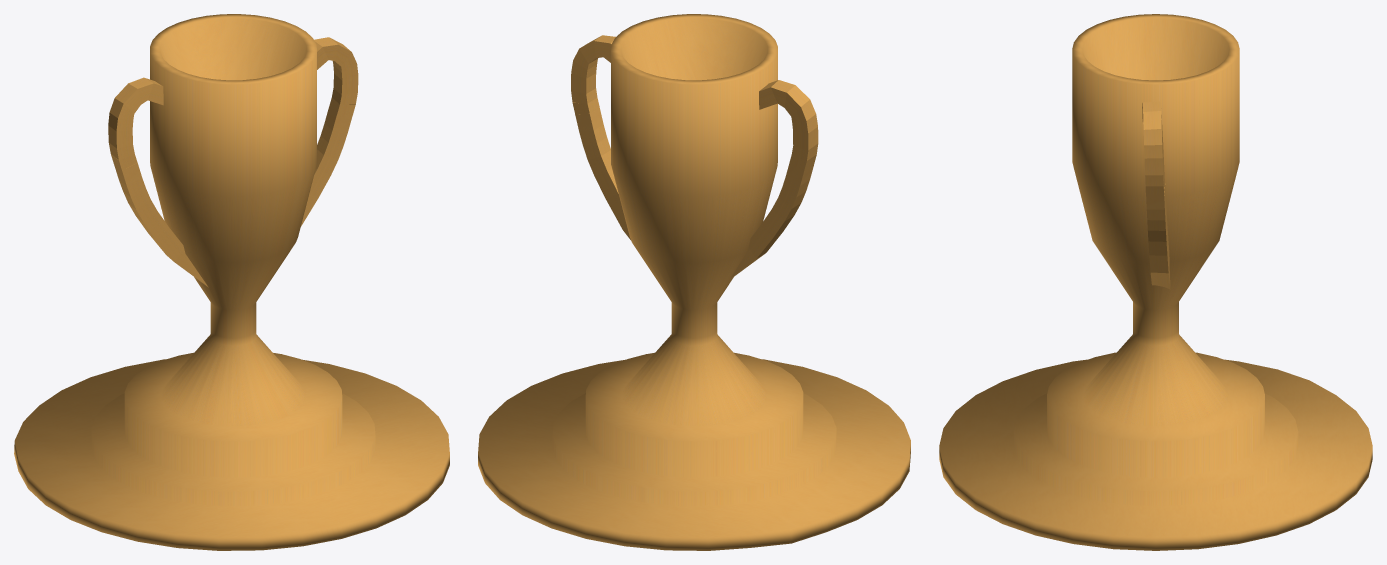
Rendered from trophy.glb.
3 renders of one model, left to right at view 1: azimuth 30°, elevation 25°; view 2: azimuth 150°, elevation 25°; view 3: azimuth 270°, elevation 25°, orthographic.
Parts seen in each view (by area): view 1: Cylinder; view 2: Cylinder; view 3: Cylinder.
Boxes of the visible parts, x1,y1,x2,y2 form: Cylinder: [14, 14, 449, 550]; Cylinder: [478, 14, 910, 550]; Cylinder: [939, 14, 1372, 550].
Size of the model in its own units: 13.18 by 13.77 by 13.18.
Materials: 3 (3 with a texture image).
